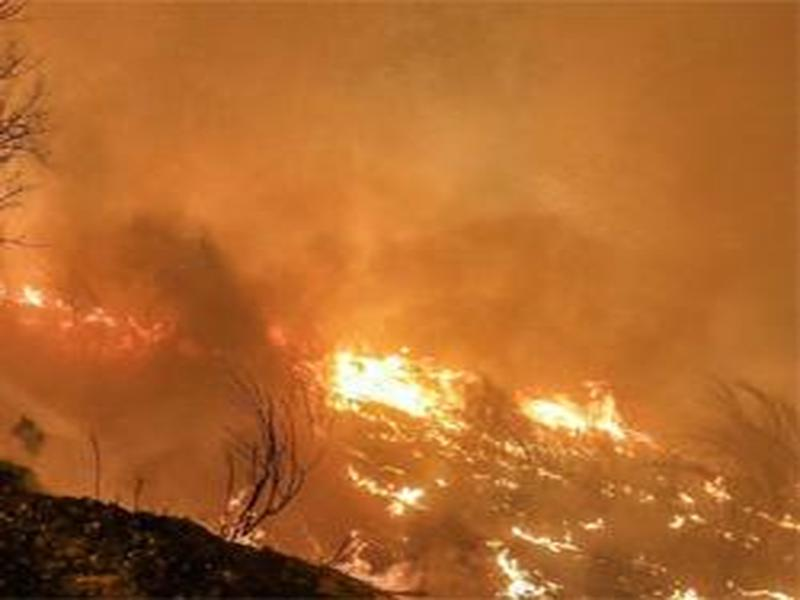FIRE: (5, 266, 741, 600)
